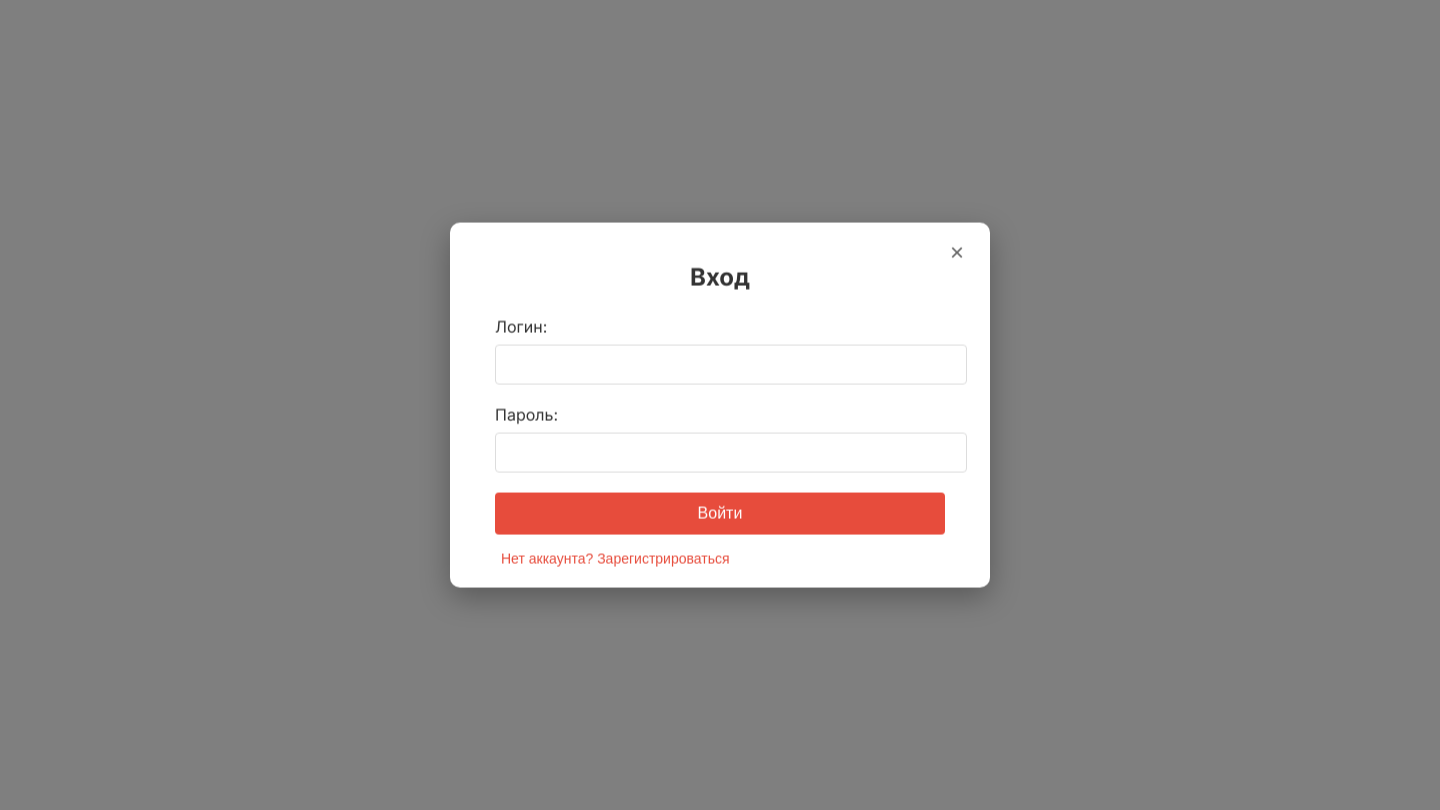
Test: AuthModal Component › switches between login and registration modes
Click the button "Нет аккаунта? Зарегистрироваться" at (615,558), box [495,550,736,568]
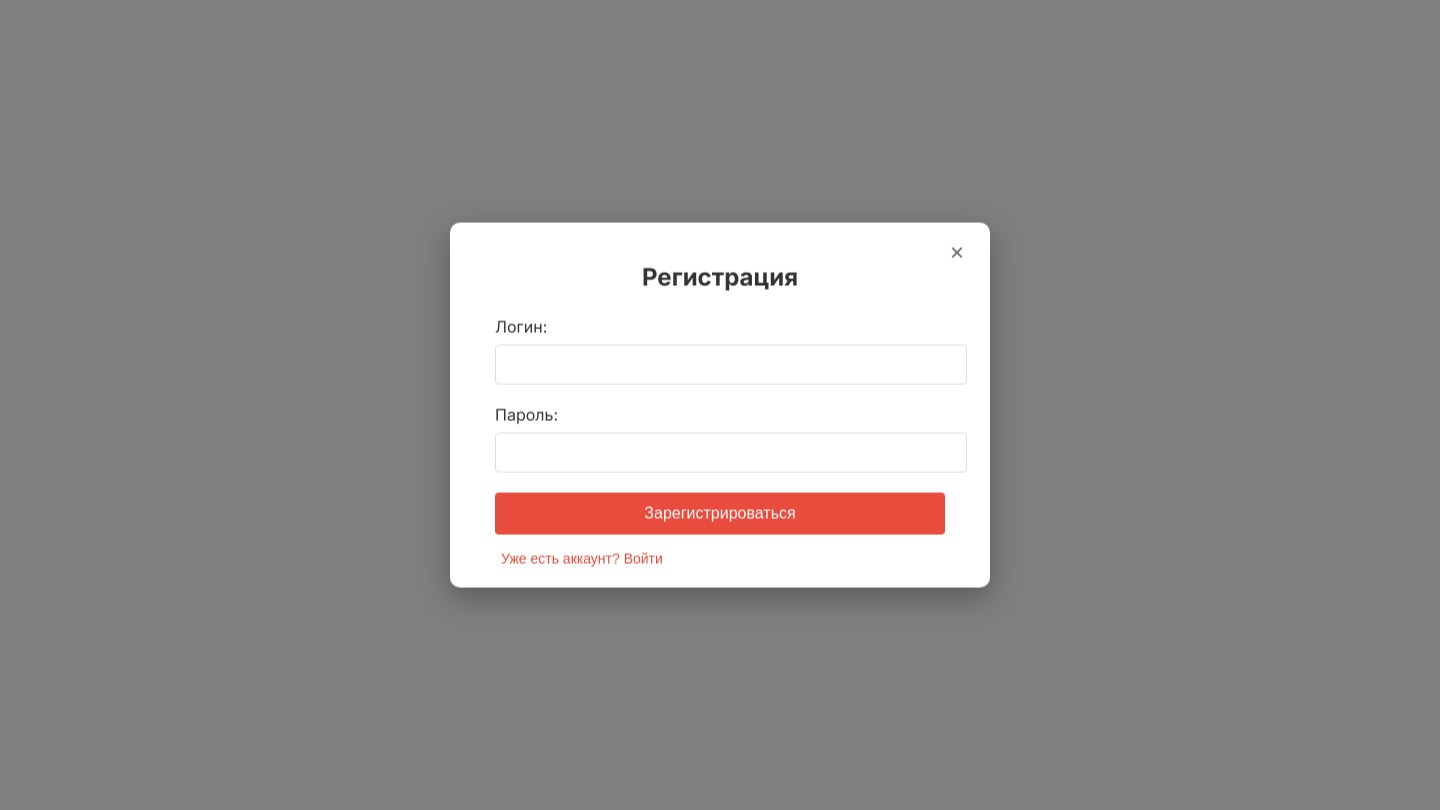
Now the heading "Регистрация" is shown, box [642,262,798,292]
Click the button "Уже есть аккаунт? Войти" at (582,558), box [495,550,669,568]
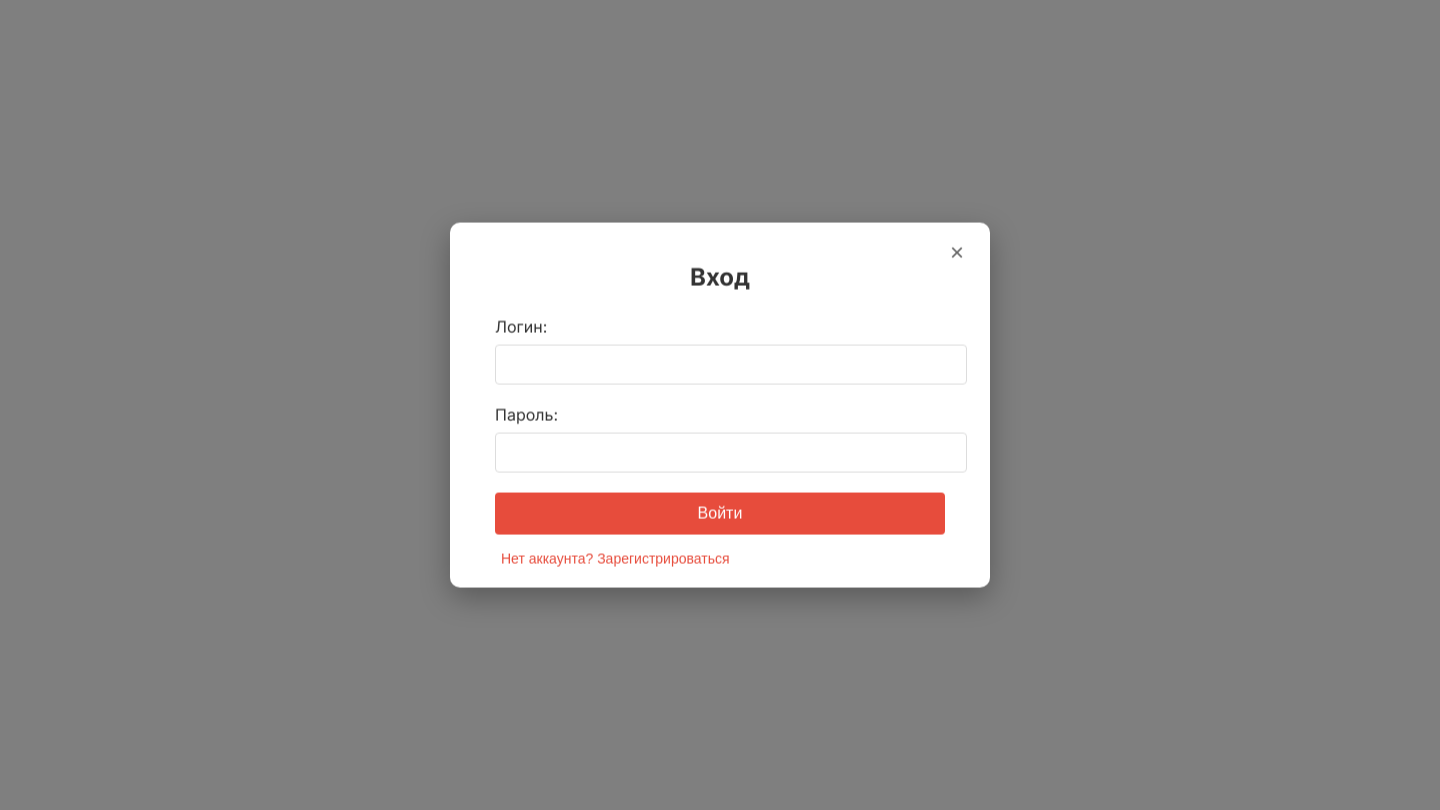
Now the heading "Вход" is shown, box [690,262,750,292]
